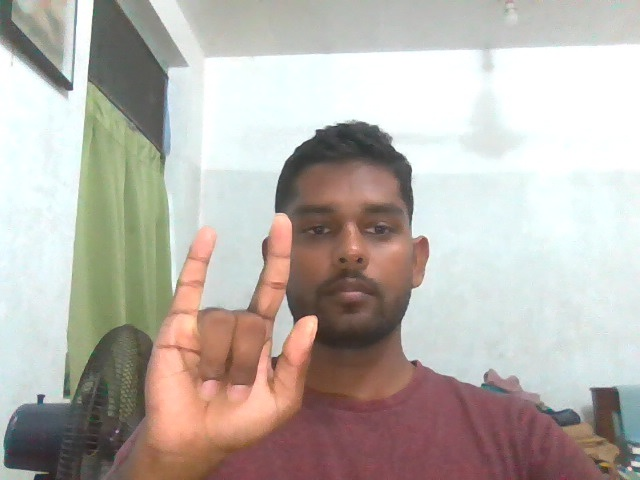hello: (115, 208, 322, 463)
